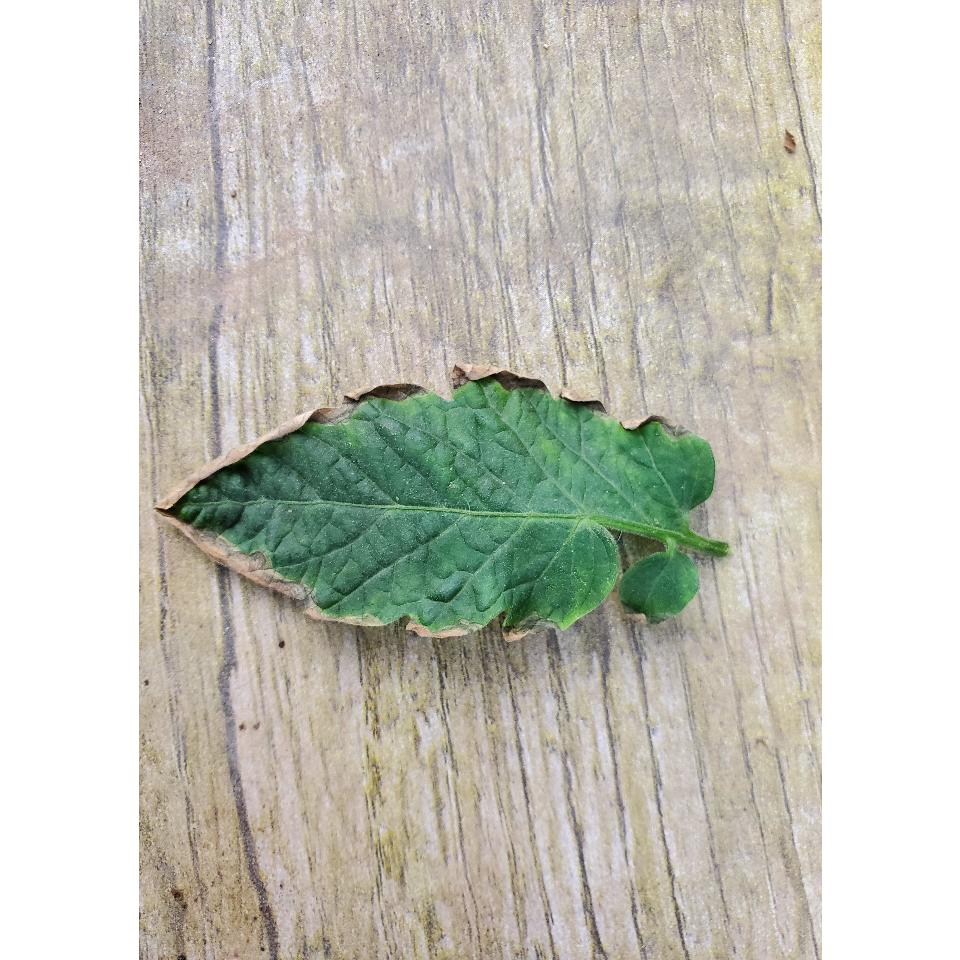tomato_bacterial_blight: (140, 364, 756, 660)
